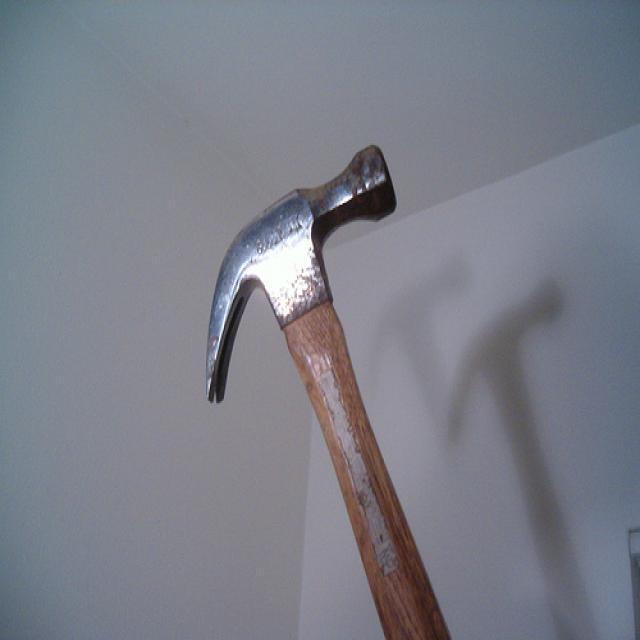hammer: (194, 129, 462, 640)
